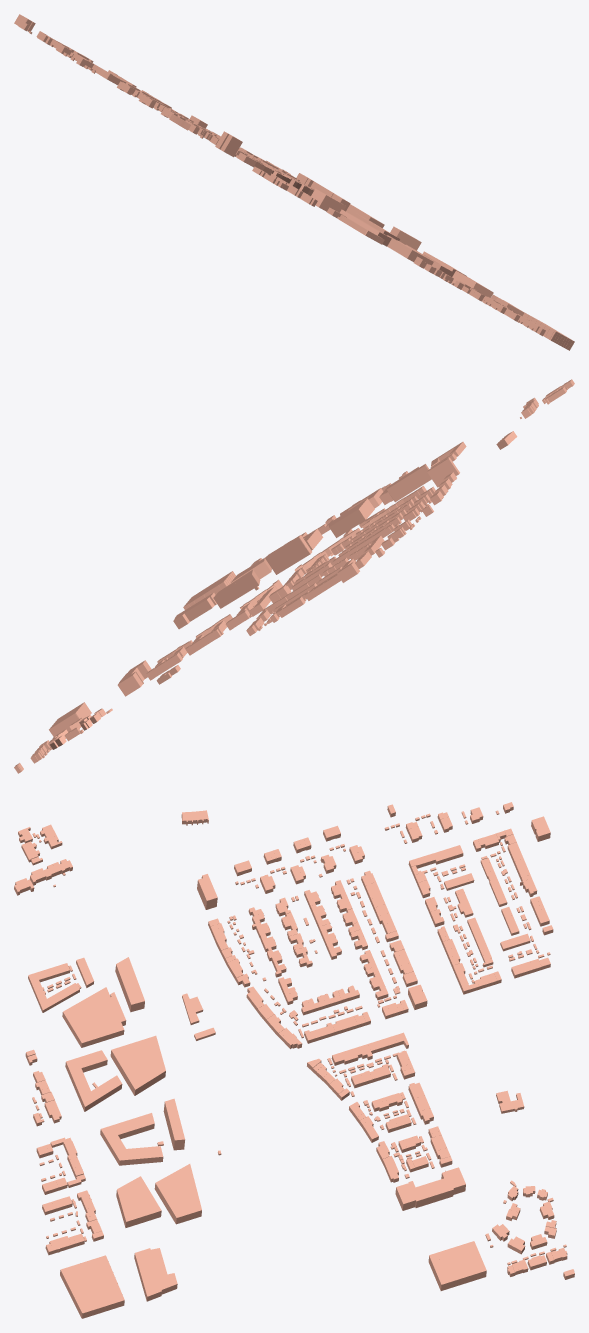
The picture shows the model from 3 angles, top to bottom: view 1: azimuth 30°, elevation 25°; view 2: azimuth 150°, elevation 25°; view 3: azimuth 270°, elevation 25°; orthographic projection. The views are drawn at different scales.
Size of the model in its own units: 548 by 399 by 636.
